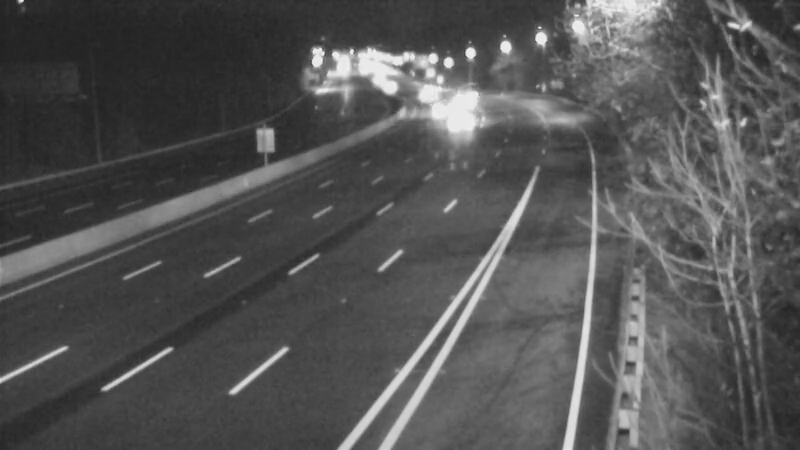vehicle: (363, 63, 413, 113), (403, 72, 453, 122), (435, 78, 485, 128), (412, 86, 462, 136), (434, 99, 484, 149)
